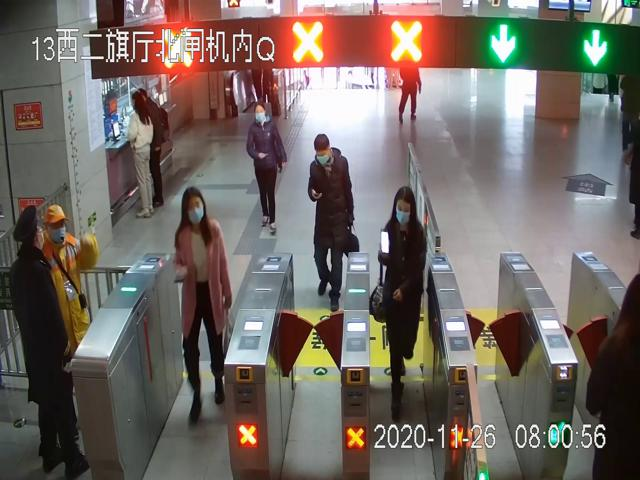person: (8, 205, 96, 475), (171, 184, 235, 423), (369, 184, 429, 424), (304, 131, 361, 312), (40, 204, 100, 370), (245, 103, 288, 234), (127, 91, 160, 218)
